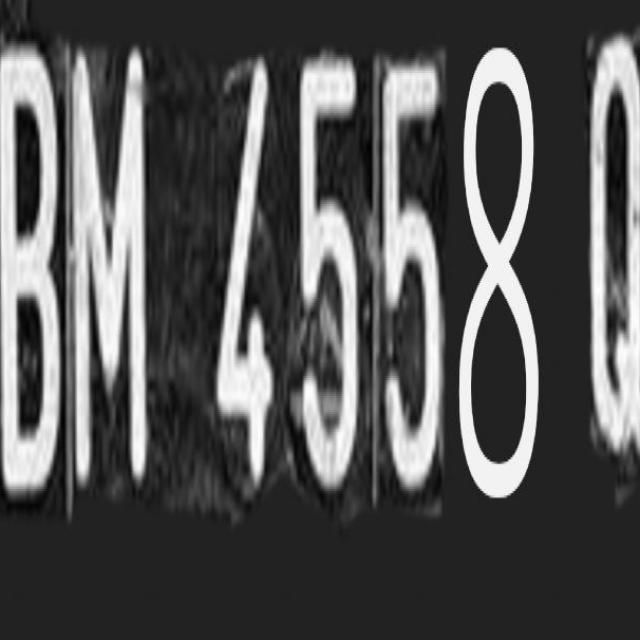4: (210, 50, 288, 502)
5: (372, 55, 447, 492), (296, 55, 364, 507)
8: (457, 37, 539, 504)
B: (0, 43, 63, 510)
M: (61, 43, 165, 494)
Q: (563, 28, 640, 470)
